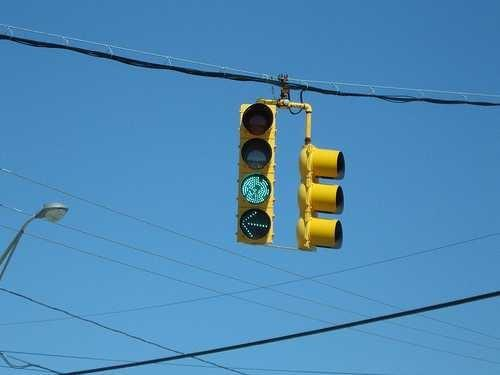1: (237, 207, 274, 244)
2: (235, 99, 276, 206)
3: (241, 98, 278, 138), (242, 135, 277, 171)
red traffic light: (242, 171, 274, 207)
